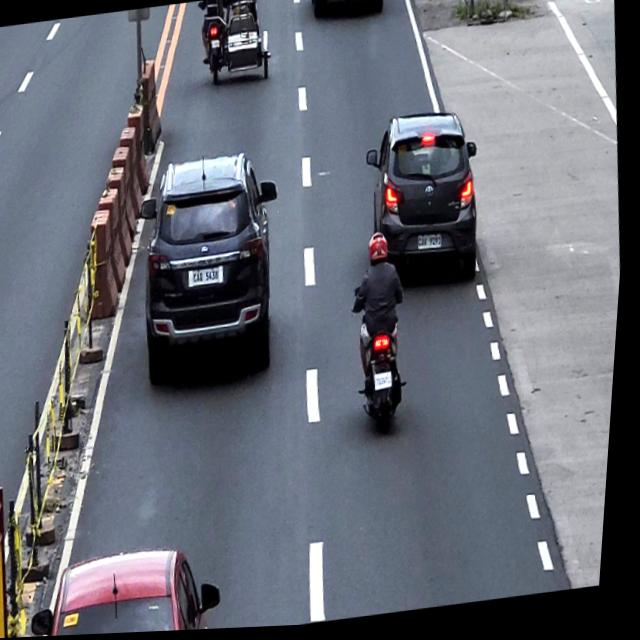Car: (129, 148, 298, 387), (358, 109, 492, 292), (33, 540, 235, 638)
License-Plate: (192, 267, 225, 290), (419, 234, 447, 256), (377, 373, 399, 394), (211, 40, 222, 51)
Motorcycle: (347, 284, 421, 440)
Tricycle: (192, 0, 279, 93)
